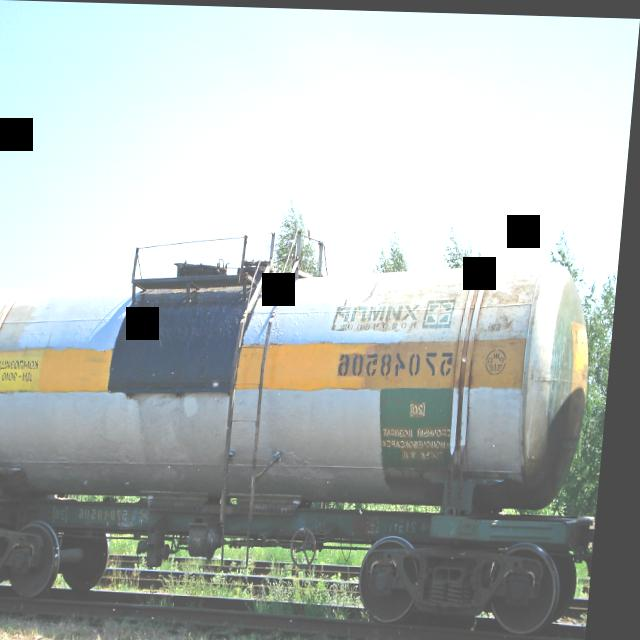tank: (0, 202, 616, 634)
